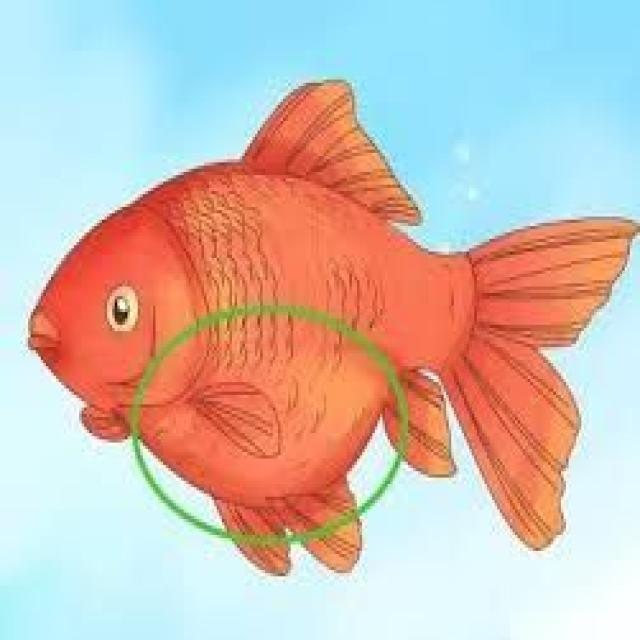Gold-Fish: (0, 16, 640, 586)
